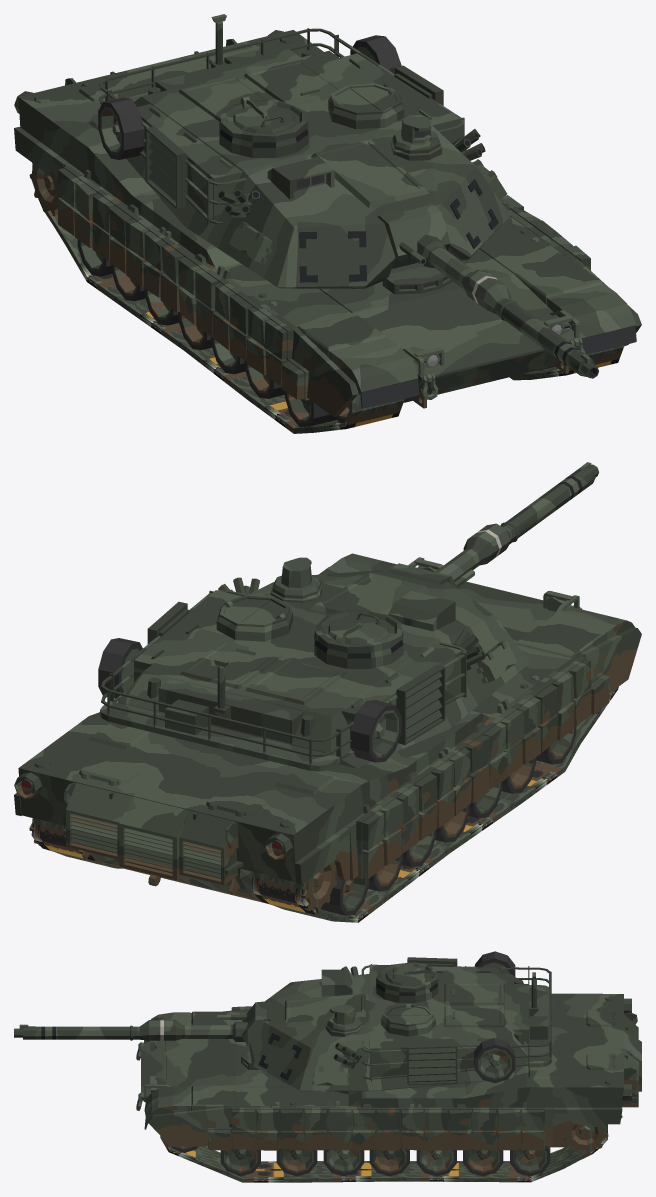
File: SM_Veh_Tank_USA_01.fbx
3 views of the same model, one above another, from view 1: azimuth 30°, elevation 25°; view 2: azimuth 150°, elevation 25°; view 3: azimuth 270°, elevation 25° (orthographic). The views are drawn at different scales.
Visible parts, largest first — view 1: SM_Veh_Tank_USA_Turret_01, SM_Veh_Tank_USA_01, SM_Veh_Tank_USA_ReactiveArmor_01, SM_Veh_Tank_USA_Turret_Barrel_01, SM_Veh_Tank_USA_Track_R, SM_Veh_Tank_USA_Turret_Hatch_01, SM_Veh_Tank_USA_Track_Wheel_R_02, SM_Veh_Tank_USA_Track_L, SM_Veh_Tank_USA_Track_Wheel_R_09, SM_Veh_Tank_USA_Track_Wheel_R_03, SM_Veh_Tank_USA_Track_Wheel_R_08, SM_Veh_Tank_USA_Track_Wheel_R_04 (+4 smaller); view 2: SM_Veh_Tank_USA_Turret_01, SM_Veh_Tank_USA_01, SM_Veh_Tank_USA_ReactiveArmor_01, SM_Veh_Tank_USA_Track_R, SM_Veh_Tank_USA_Turret_Barrel_01, SM_Veh_Tank_USA_Turret_Hatch_01, SM_Veh_Tank_USA_Track_Wheel_R_08, SM_Veh_Tank_USA_Track_L, SM_Veh_Tank_USA_Track_Wheel_R_09, SM_Veh_Tank_USA_Track_Wheel_R_02, SM_Veh_Tank_USA_Track_Wheel_R_03, SM_Veh_Tank_USA_Track_Wheel_R_07 (+3 smaller); view 3: SM_Veh_Tank_USA_Turret_01, SM_Veh_Tank_USA_01, SM_Veh_Tank_USA_ReactiveArmor_01, SM_Veh_Tank_USA_Track_L, SM_Veh_Tank_USA_Turret_Barrel_01, SM_Veh_Tank_USA_Track_Wheel_L_09, SM_Veh_Tank_USA_Track_Wheel_L_08, SM_Veh_Tank_USA_Track_Wheel_L_03, SM_Veh_Tank_USA_Track_Wheel_L_04, SM_Veh_Tank_USA_Track_Wheel_L_05, SM_Veh_Tank_USA_Track_Wheel_L_02, SM_Veh_Tank_USA_Track_Wheel_L_06 (+2 smaller).
Boxes of the visible parts, x1,y1,x2,y2 form: SM_Veh_Tank_USA_Turret_01: (98,14,510,288); SM_Veh_Tank_USA_01: (14,30,641,416); SM_Veh_Tank_USA_ReactiveArmor_01: (58,165,590,400); SM_Veh_Tank_USA_Turret_Barrel_01: (378,203,598,378); SM_Veh_Tank_USA_Track_R: (31,165,404,433); SM_Veh_Tank_USA_Turret_Hatch_01: (233,99,295,133); SM_Veh_Tank_USA_Track_Wheel_R_02: (284,391,337,426); SM_Veh_Tank_USA_Track_L: (509,345,623,380); SM_Veh_Tank_USA_Track_Wheel_R_09: (29,162,57,216); SM_Veh_Tank_USA_Track_Wheel_R_03: (244,360,284,398); SM_Veh_Tank_USA_Track_Wheel_R_08: (77,239,112,276); SM_Veh_Tank_USA_Track_Wheel_R_04: (211,336,245,374); SM_Veh_Tank_USA_Turret_01: (98,557,529,771); SM_Veh_Tank_USA_01: (14,553,641,903); SM_Veh_Tank_USA_ReactiveArmor_01: (356,656,609,878); SM_Veh_Tank_USA_Track_R: (251,687,618,922); SM_Veh_Tank_USA_Turret_Barrel_01: (388,462,598,588); SM_Veh_Tank_USA_Turret_Hatch_01: (328,613,388,644); SM_Veh_Tank_USA_Track_Wheel_R_08: (321,869,369,915); SM_Veh_Tank_USA_Track_L: (31,818,122,868); SM_Veh_Tank_USA_Track_Wheel_R_09: (300,861,336,912); SM_Veh_Tank_USA_Track_Wheel_R_02: (536,726,576,764); SM_Veh_Tank_USA_Track_Wheel_R_03: (501,757,536,793); SM_Veh_Tank_USA_Track_Wheel_R_07: (368,853,402,891); SM_Veh_Tank_USA_Turret_01: (248,951,551,1091); SM_Veh_Tank_USA_01: (136,993,641,1147); SM_Veh_Tank_USA_ReactiveArmor_01: (207,1006,544,1150); SM_Veh_Tank_USA_Track_L: (160,1124,607,1182); SM_Veh_Tank_USA_Turret_Barrel_01: (14,1001,271,1047); SM_Veh_Tank_USA_Track_Wheel_L_09: (563,1124,608,1153); SM_Veh_Tank_USA_Track_Wheel_L_08: (510,1146,550,1176); SM_Veh_Tank_USA_Track_Wheel_L_03: (276,1149,317,1176); SM_Veh_Tank_USA_Track_Wheel_L_04: (323,1149,364,1176); SM_Veh_Tank_USA_Track_Wheel_L_05: (369,1149,409,1176); SM_Veh_Tank_USA_Track_Wheel_L_02: (220,1149,260,1176); SM_Veh_Tank_USA_Track_Wheel_L_06: (416,1149,456,1176).
Bounding box in the file's own units: 404 × 283 × 998.
